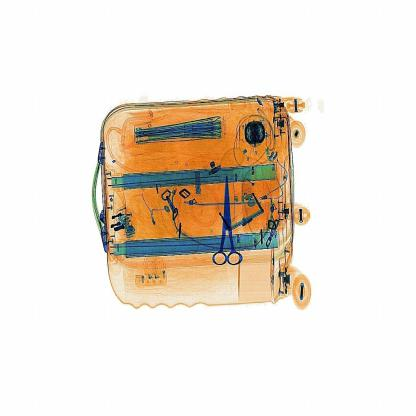gun: (200, 162, 242, 284)
